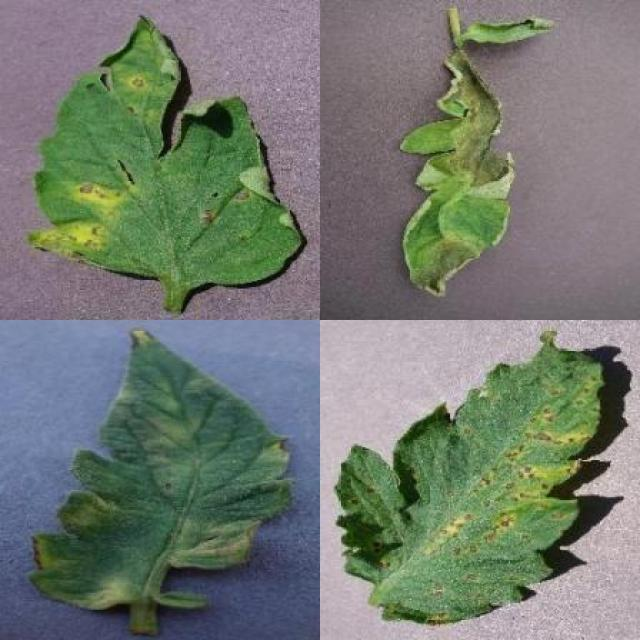Late Blight: (398, 46, 516, 300), (466, 12, 554, 47)
Leaf Mold: (28, 328, 296, 615)
Septoria: (335, 329, 605, 625), (26, 12, 305, 289)
